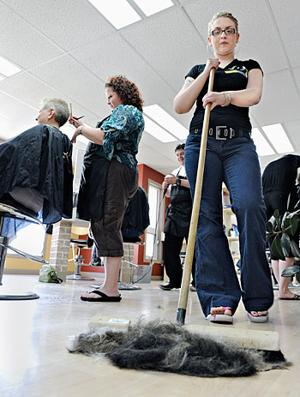person: (174, 10, 274, 325)
